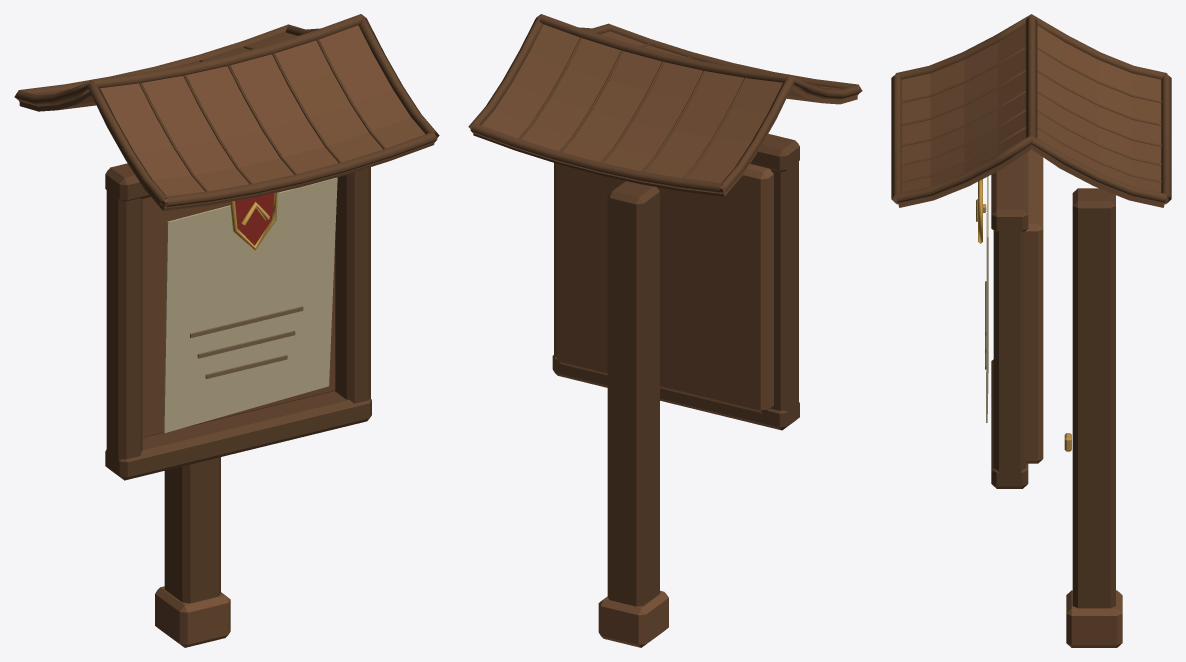
The model's file is notice.glb.
3 views of the same model, side by side, from view 1: azimuth 30°, elevation 25°; view 2: azimuth 150°, elevation 25°; view 3: azimuth 270°, elevation 25° (orthographic). The views are drawn at different scales.
Visible parts, largest first — view 1: notice-signage; view 2: notice-signage; view 3: notice-signage.
Part boxes in pixels (left/top/right/bottom): notice-signage: left=14, top=14, right=439, bottom=647; notice-signage: left=468, top=14, right=862, bottom=647; notice-signage: left=891, top=14, right=1171, bottom=647.
Bounding box in the file's own units: 1.37 × 2.87 × 1.29.
